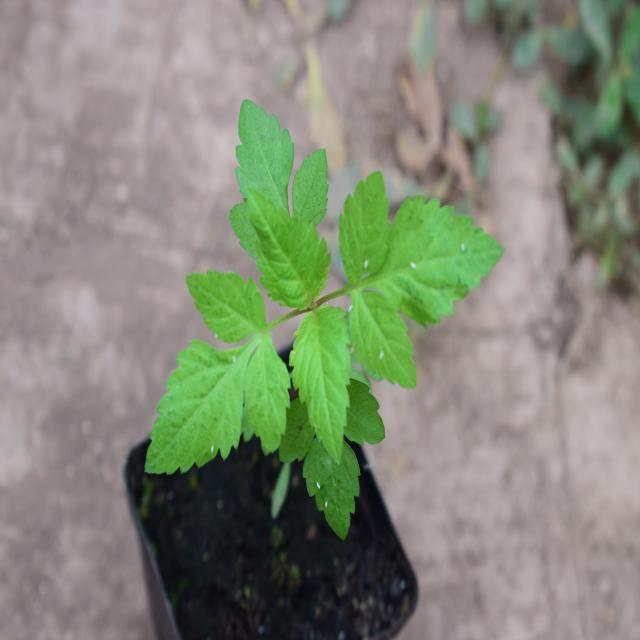Bidens pilosa: (129, 103, 501, 540)
